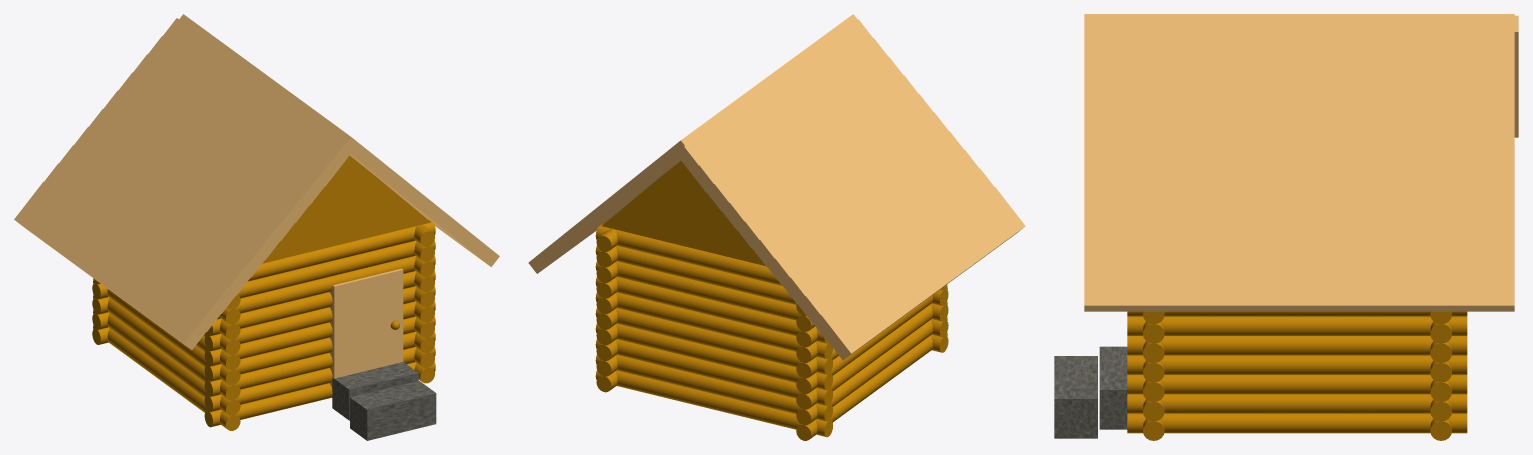
3 renders of one model, left to right at view 1: azimuth 30°, elevation 25°; view 2: azimuth 150°, elevation 25°; view 3: azimuth 270°, elevation 25°, orthographic. The views are drawn at different scales.
Visible parts, largest first — view 1: Cube_9, Cube_4, Cube_3, Cube_0, Cube_3_2, Cube_2_2, Cube_7, Cube_8, Cube_5, Cube_1_2, Cube_4_2, Cube_6 (+21 smaller); view 2: Cube_9, Cube, Cube_0, Cube_6, Cube_8, Cube_3_2, Cube_2_2, Cube_4_2, Cube_1_2, Cube_7, Cube_5, Cylinder_0 (+18 smaller); view 3: Cube_16, Cube_2_3, Cube_3_3, Cube_4_3, Cube_9_2, Cube_10, Cube_11, Cube_0_2, Cube_1_3, Cube_5_2, Cube_6_2, Cube_7_2 (+21 smaller).
Part boxes in pixels (box(x1,y1,x2,y2)): Cube_9: box(14, 181, 221, 349); Cube_4: box(262, 155, 430, 263); Cube_3: box(329, 268, 403, 388); Cube_0: box(162, 18, 354, 186); Cube_3_2: box(118, 72, 309, 240); Cube_2_2: box(133, 54, 324, 222); Cube_7: box(59, 145, 249, 313); Cube_8: box(44, 163, 233, 331); Cube_5: box(89, 109, 279, 277); Cube_1_2: box(148, 36, 339, 204); Cube_4_2: box(103, 90, 291, 258); Cube_6: box(74, 127, 261, 295); Cube_9: box(812, 187, 1025, 360); Cube: box(602, 161, 765, 265); Cube_0: box(676, 19, 872, 192); Cube_6: box(767, 131, 963, 304); Cube_8: box(798, 168, 994, 341); Cube_3_2: box(722, 75, 918, 248); Cube_2_2: box(707, 56, 903, 229); Cube_4_2: box(740, 94, 933, 266); Cube_1_2: box(691, 38, 888, 211); Cube_7: box(782, 150, 979, 322); Cube_5: box(753, 112, 948, 285); Cylinder_0: box(595, 334, 948, 437); Cube_16: box(1084, 283, 1514, 311); Cube_2_3: box(1084, 47, 1514, 64); Cube_3_3: box(1084, 64, 1514, 81); Cube_4_3: box(1084, 81, 1514, 98); Cube_9_2: box(1084, 165, 1514, 182); Cube_10: box(1084, 182, 1514, 199); Cube_11: box(1084, 199, 1514, 216); Cube_0_2: box(1084, 14, 1514, 30); Cube_1_3: box(1084, 31, 1514, 47); Cube_5_2: box(1084, 98, 1514, 114); Cube_6_2: box(1084, 115, 1514, 131); Cube_7_2: box(1084, 132, 1514, 148).
Size of the model in its own units: 21.37 by 19.13 by 21.23.
3 materials, 1 textured.
